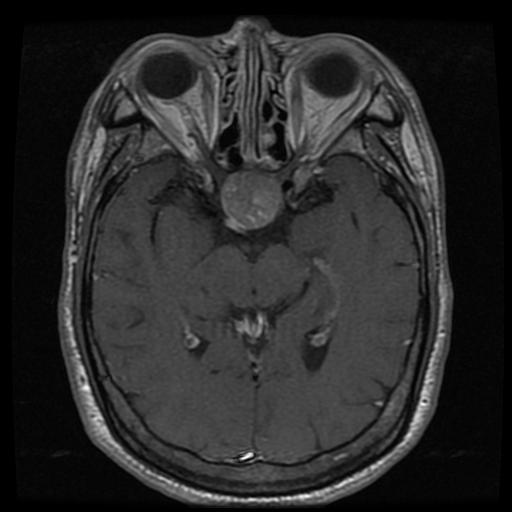Pituirity_tumour: (222, 170, 282, 227)
